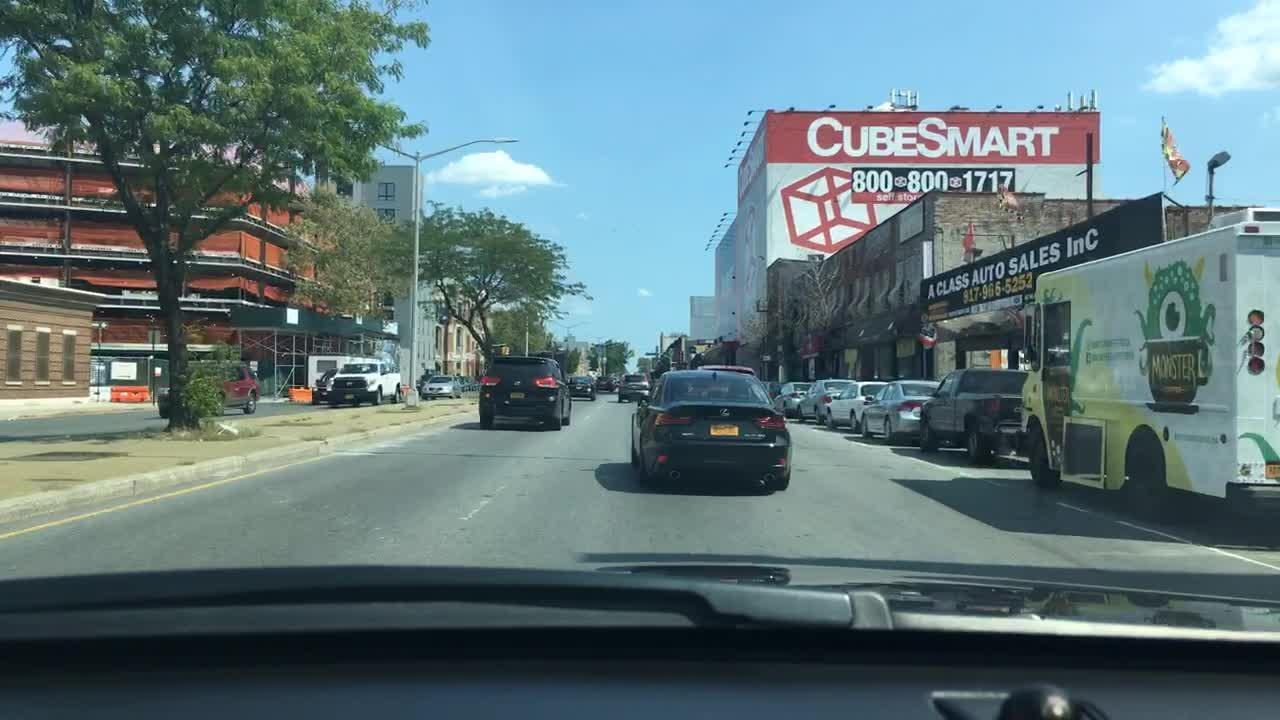lexus: (710, 403, 738, 421)
